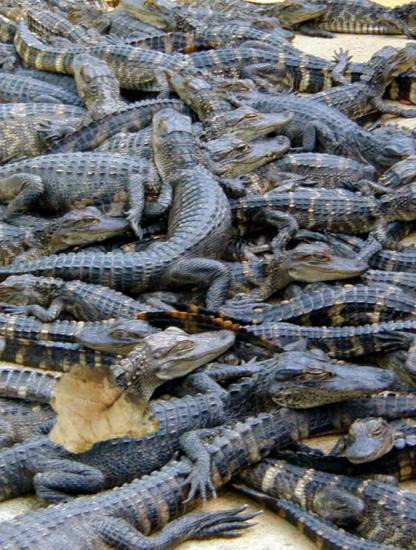Ginger: (46, 357, 163, 474)
